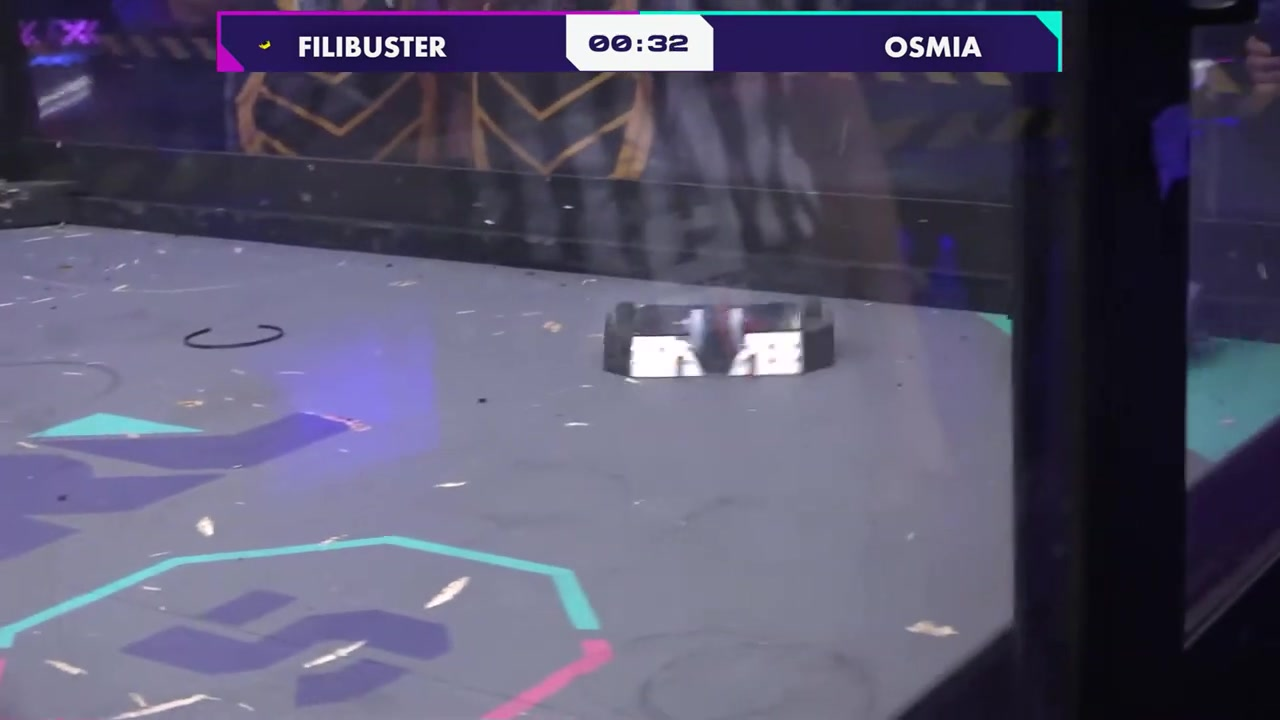belt: (182, 318, 286, 350)
combatbot: (598, 290, 838, 381)
